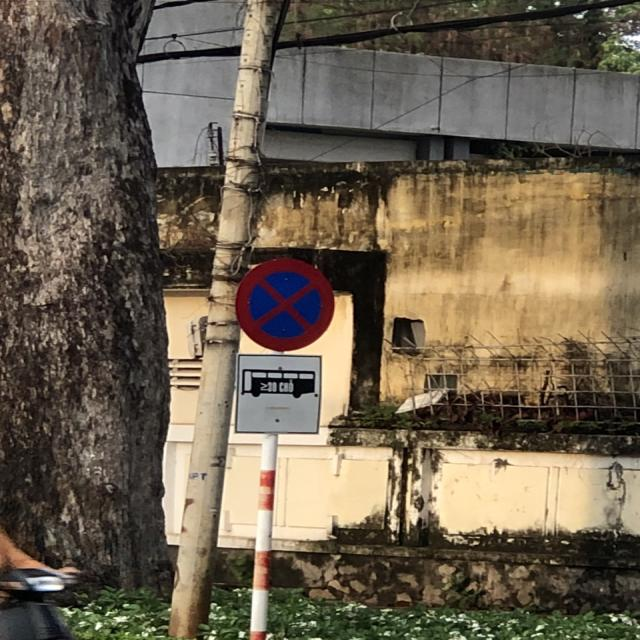Bien bao cam dung xe va do xe: (230, 255, 338, 355)
